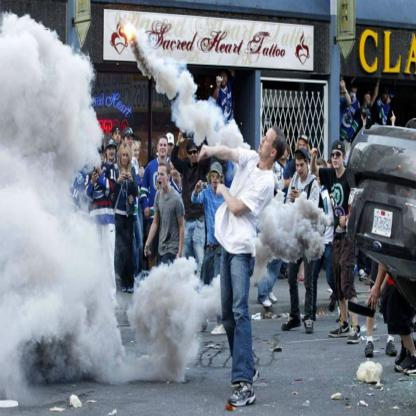face: (259, 131, 276, 156), (159, 168, 169, 189), (332, 150, 342, 170), (188, 146, 198, 164), (297, 159, 306, 177), (159, 140, 168, 157), (171, 161, 179, 179), (212, 170, 220, 187), (108, 144, 117, 159), (125, 135, 134, 150), (300, 139, 307, 154), (114, 131, 122, 144), (122, 151, 129, 165), (133, 147, 140, 161), (168, 142, 175, 156), (280, 146, 288, 158), (221, 74, 228, 87), (353, 89, 358, 100), (383, 90, 388, 100), (368, 95, 372, 103)
